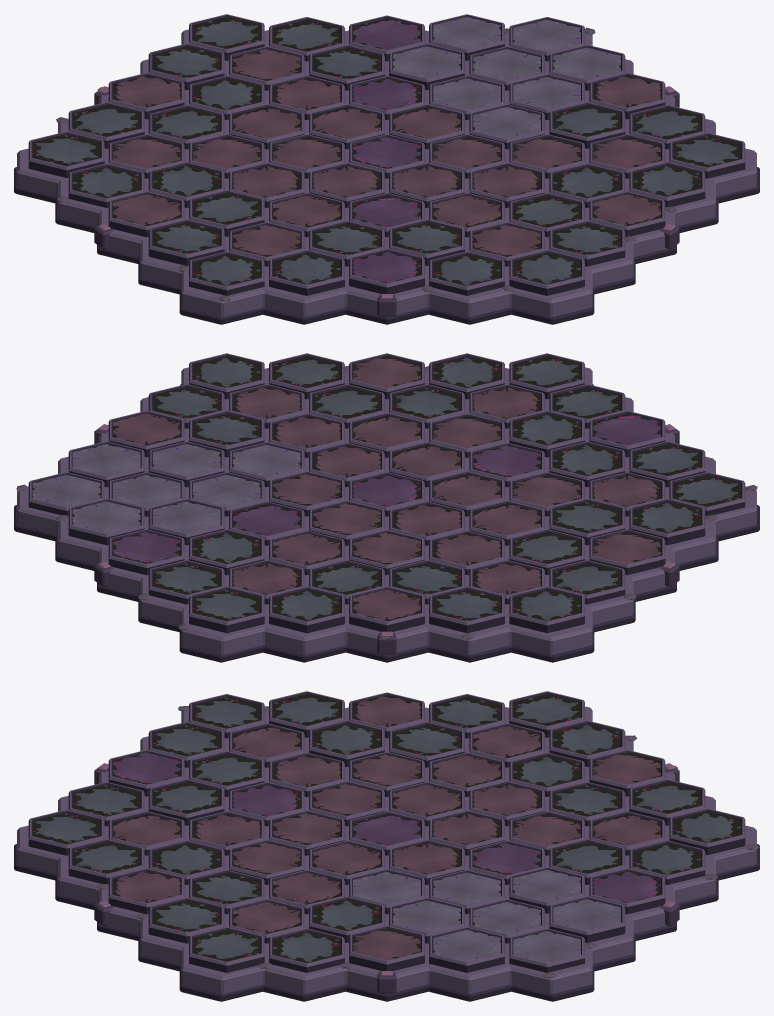
Rendered from Arena_Tabuleiro.glb.
3 renders of one model, top to bottom at view 1: azimuth 30°, elevation 25°; view 2: azimuth 150°, elevation 25°; view 3: azimuth 270°, elevation 25°, orthographic.
Visible parts, largest first — view 1: Arena_Foundation, Hex_q-2_r-2, Hex_q-3_r-1, Hex_q+0_r-4, Hex_q-4_r+4, Hex_q-4_r+1, Hex_q-1_r-3, Hex_q-4_r+0, Hex_q+1_r-4, Hex_q+4_r-4, Hex_q+3_r-4, Hex_q+2_r-4 (+51 smaller); view 2: Arena_Foundation, Hex_q-3_r+4, Hex_q-1_r+4, Hex_q-4_r+4, Hex_q+0_r+4, Hex_q-2_r+4, Hex_q-4_r+1, Hex_q+3_r+1, Hex_q-4_r+2, Hex_q+2_r+2, Hex_q-1_r-2, Hex_q-2_r-1 (+51 smaller); view 3: Arena_Foundation, Hex_q+4_r-2, Hex_q+4_r-1, Hex_q+4_r-4, Hex_q+0_r+4, Hex_q+3_r+1, Hex_q+4_r+0, Hex_q+4_r-3, Hex_q+0_r-4, Hex_q+3_r-4, Hex_q+1_r-4, Hex_q+2_r-4 (+51 smaller).
Boxes of the visible parts, <box> form: Arena_Foundation: <box>14,29,759,324</box>; Hex_q-2_r-2: <box>349,248,424,293</box>; Hex_q-3_r-1: <box>269,250,344,295</box>; Hex_q+0_r-4: <box>509,250,584,295</box>; Hex_q-4_r+4: <box>28,131,104,177</box>; Hex_q-4_r+1: <box>148,219,224,265</box>; Hex_q-1_r-3: <box>429,251,504,295</box>; Hex_q-4_r+0: <box>189,251,264,295</box>; Hex_q+1_r-4: <box>549,220,625,266</box>; Hex_q+4_r-4: <box>669,132,745,178</box>; Hex_q+3_r-4: <box>629,162,705,207</box>; Hex_q+2_r-4: <box>589,191,665,236</box>; Arena_Foundation: <box>14,367,759,662</box>; Hex_q-3_r+4: <box>429,586,504,633</box>; Hex_q-1_r+4: <box>269,586,344,633</box>; Hex_q-4_r+4: <box>509,586,584,633</box>; Hex_q+0_r+4: <box>189,586,264,633</box>; Hex_q-2_r+4: <box>349,586,424,631</box>; Hex_q-4_r+1: <box>629,498,705,545</box>; Hex_q+3_r+1: <box>68,498,144,545</box>; Hex_q-4_r+2: <box>589,529,665,575</box>; Hex_q+2_r+2: <box>108,529,184,575</box>; Hex_q-1_r-2: <box>509,410,584,457</box>; Hex_q-2_r-1: <box>549,441,625,487</box>; Arena_Foundation: <box>14,706,759,1001</box>; Hex_q+4_r-2: <box>349,925,424,970</box>; Hex_q+4_r-1: <box>429,927,504,972</box>; Hex_q+4_r-4: <box>189,927,264,972</box>; Hex_q+0_r+4: <box>669,808,745,854</box>; Hex_q+3_r+1: <box>549,896,625,942</box>; Hex_q+4_r+0: <box>509,928,584,972</box>; Hex_q+4_r-3: <box>269,928,344,972</box>; Hex_q+0_r-4: <box>28,809,104,855</box>; Hex_q+3_r-4: <box>148,897,224,943</box>; Hex_q+1_r-4: <box>68,839,144,884</box>; Hex_q+2_r-4: <box>108,868,184,913</box>.
Bounding box in the file's own units: 14.45 × 0.85 × 16.13.
Materials: 7 (1 with a texture image).
